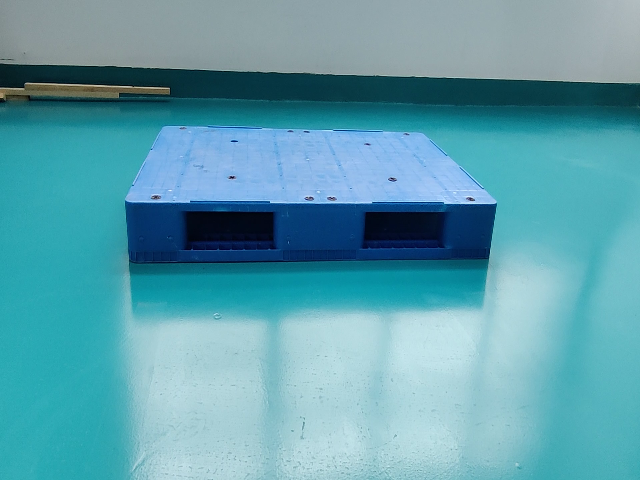block: (274, 203, 364, 266), (126, 201, 189, 262), (444, 200, 495, 260)
